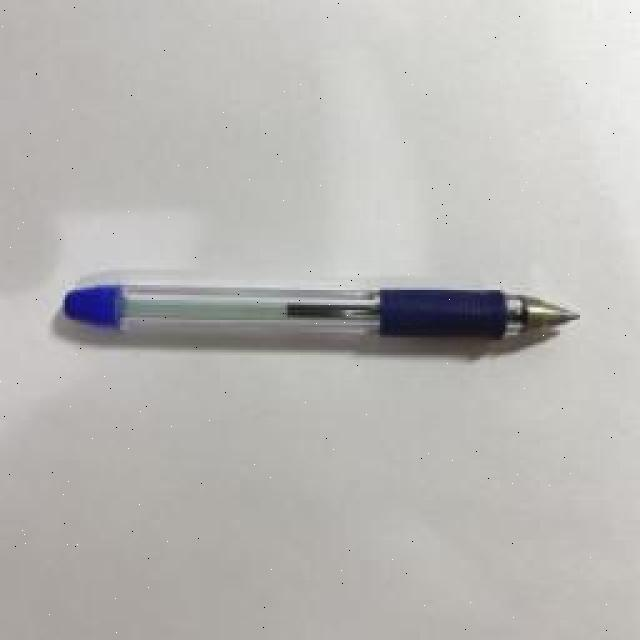pen: (60, 285, 585, 343)
